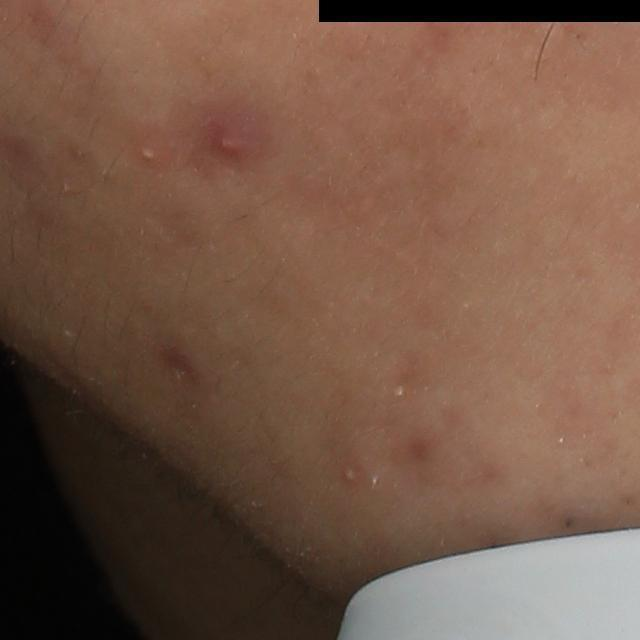papule: (209, 121, 251, 162)
pustule: (135, 134, 164, 168)
